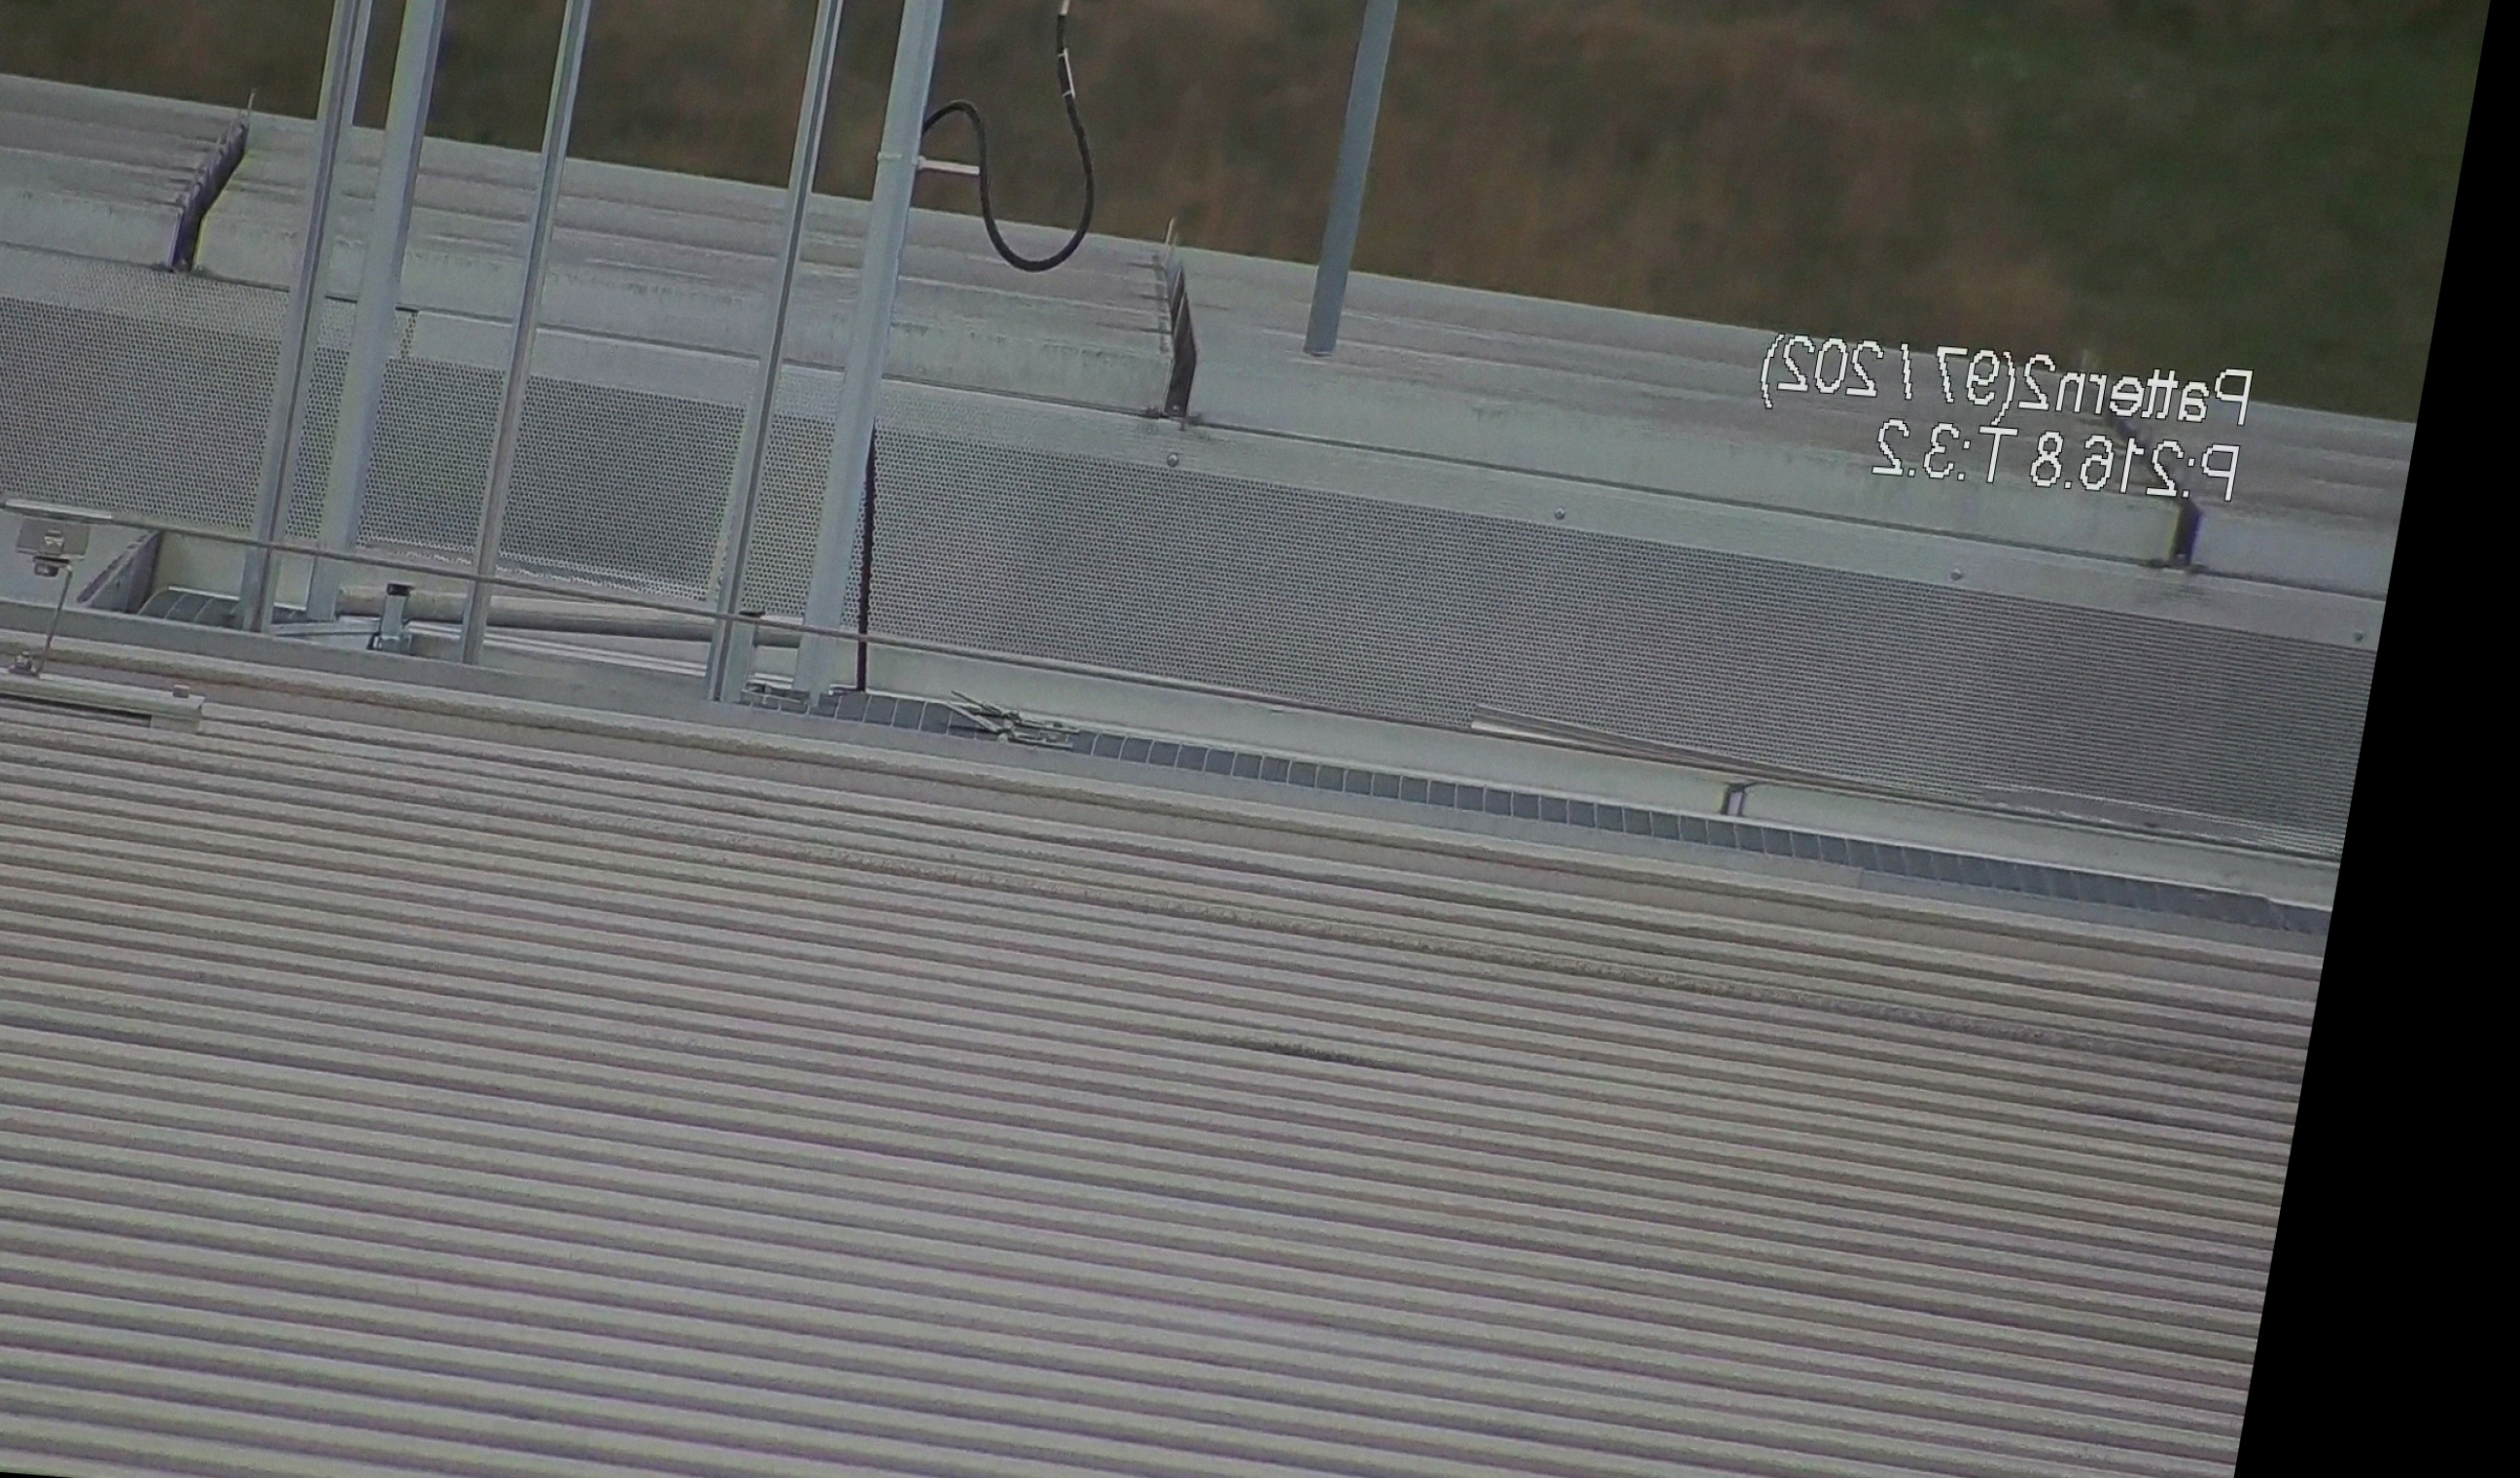Other: (142, 69, 264, 282)
